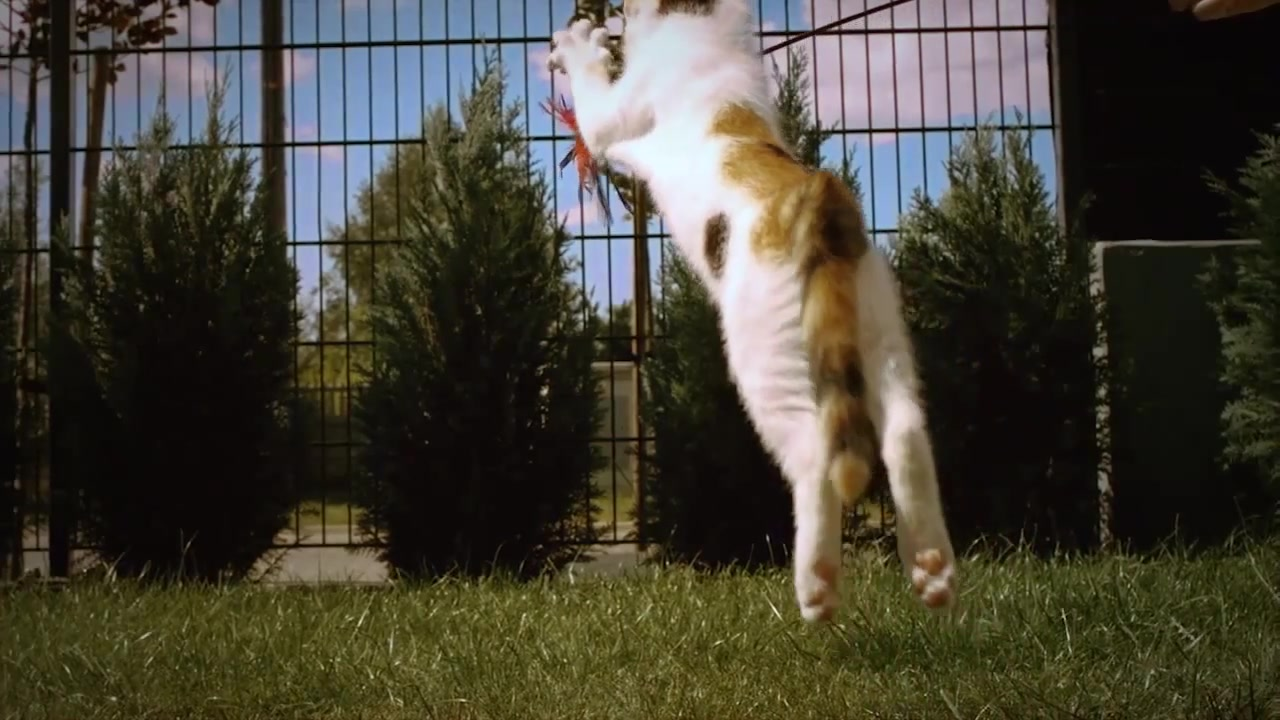cat: (548, 2, 964, 629)
